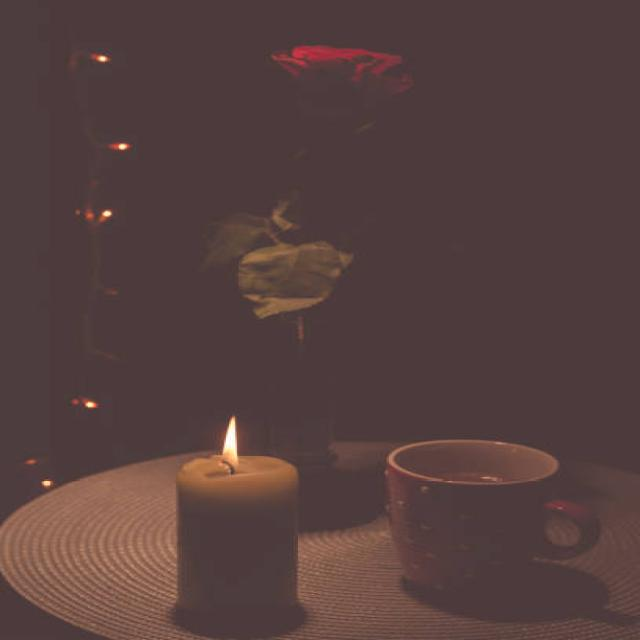Red_cup: (385, 440, 599, 588)
